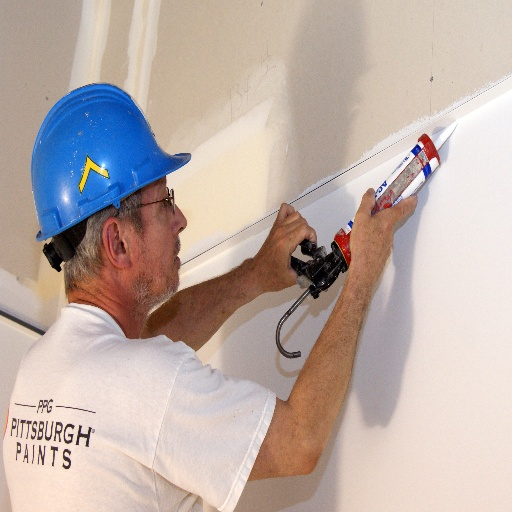hand: (348, 184, 417, 281), (259, 198, 318, 309)
